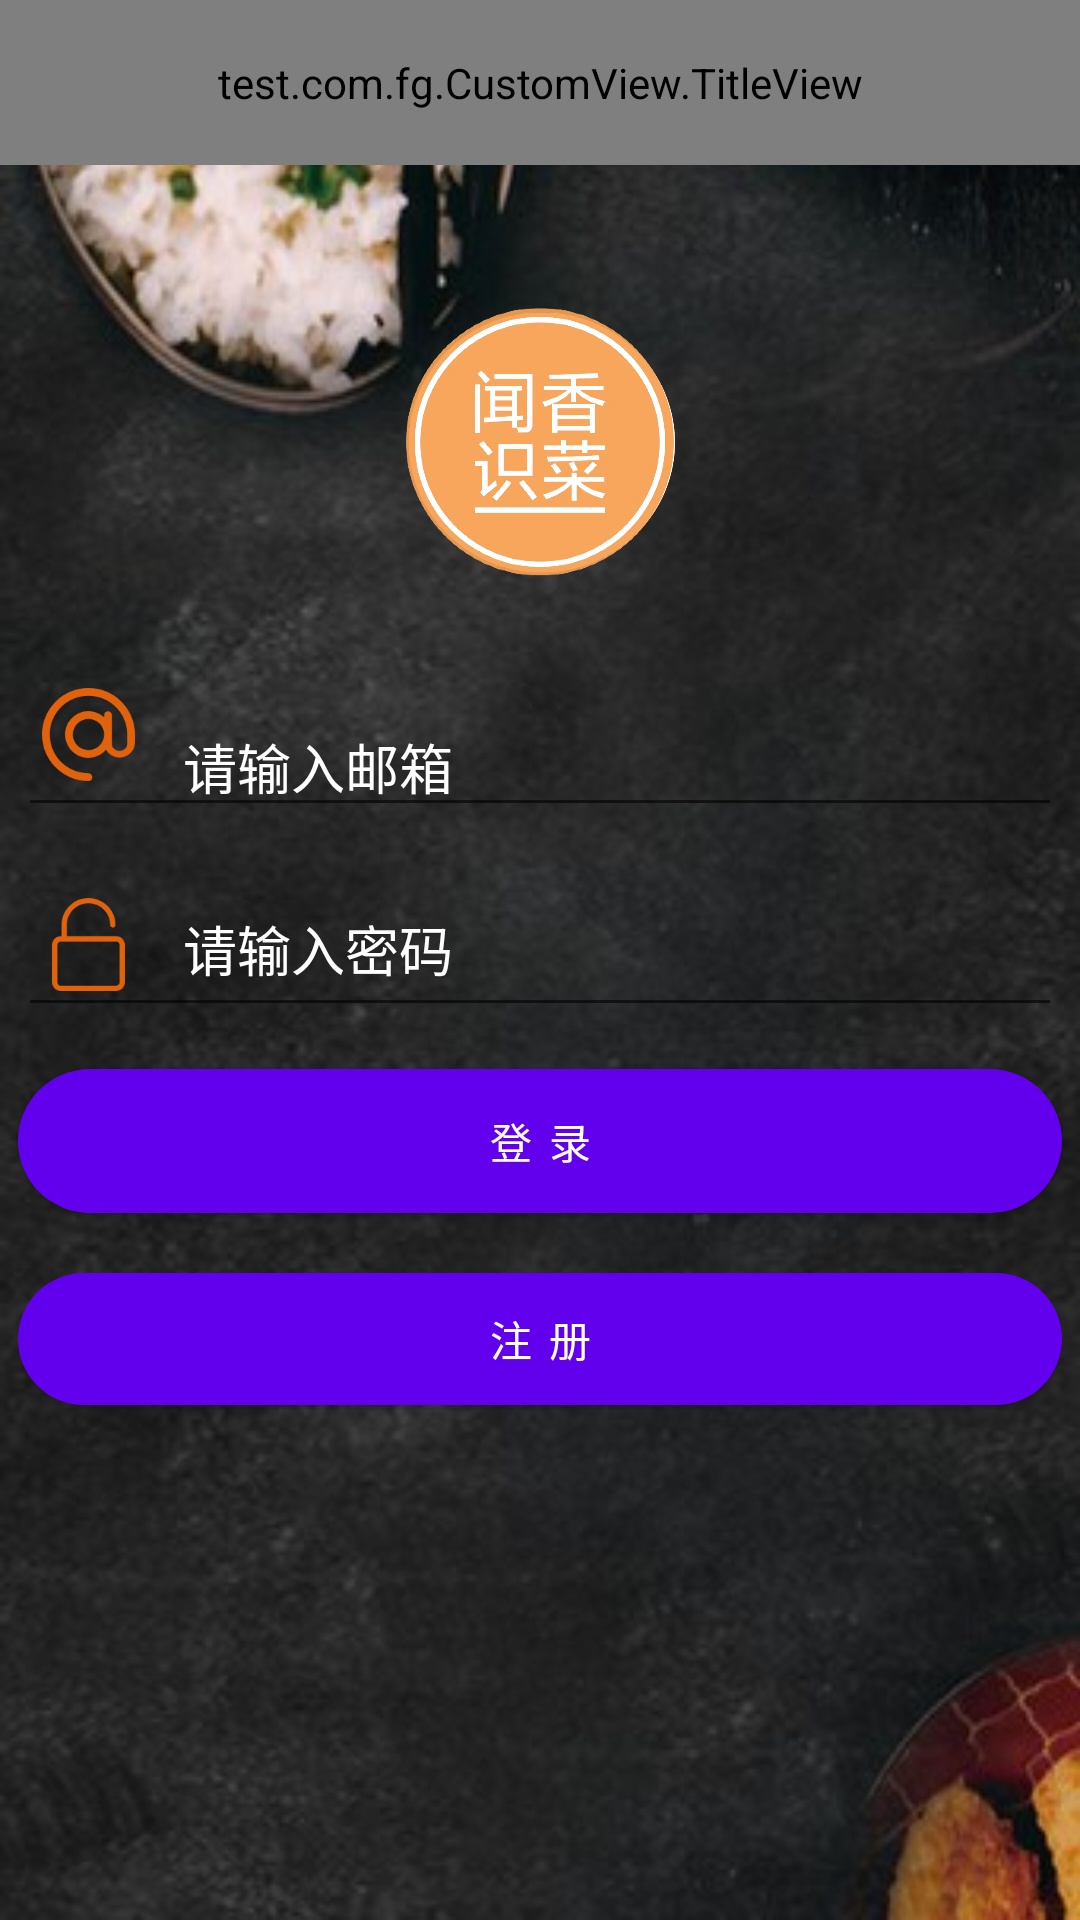

Named icons in this screenshot (1080×1920) and their bounding boxes, (x1, y1, x2, y2):
email: (42, 688, 135, 781)
password: (52, 898, 125, 991)
